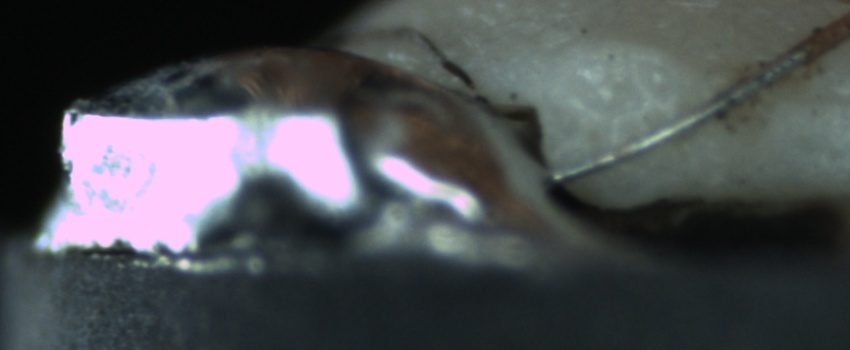TS: (550, 46, 811, 182)
